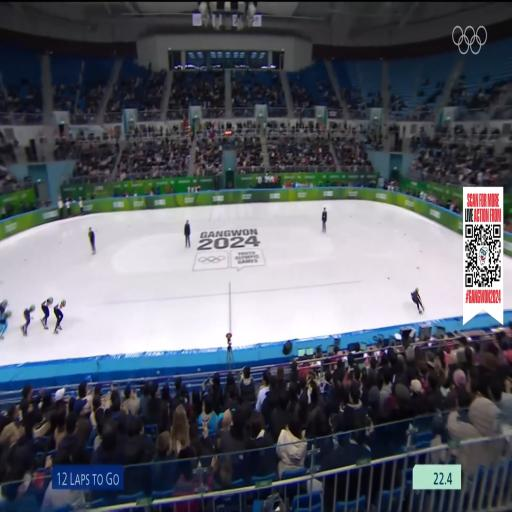Skater: (21, 305, 34, 336), (41, 297, 53, 329), (54, 300, 65, 333), (411, 288, 424, 314)
